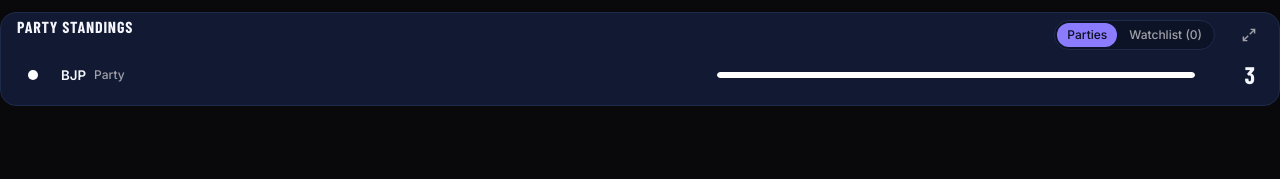
Test case: StandingsTile watchlist tab › shows the empty state on an empty watchlist
The width and height of the screenshot is (1280, 179).
What coordinates should you click on to do the following:
click the radio button labelled "Watchlist (0)"
I would click on:
 (1166, 35)
Its box is [1119,23,1212,47].
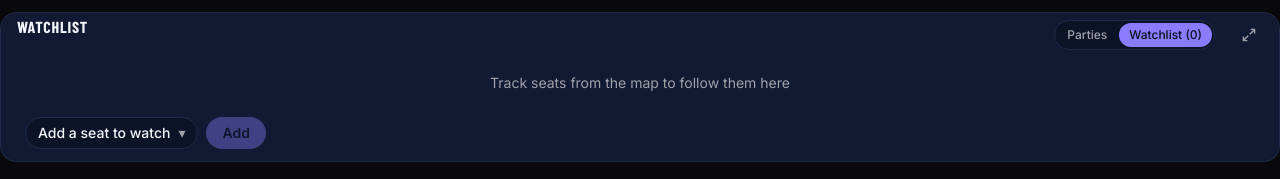
Check: the text "Track seats from the map to follow them here" is shown, box [490,74,790,91]
